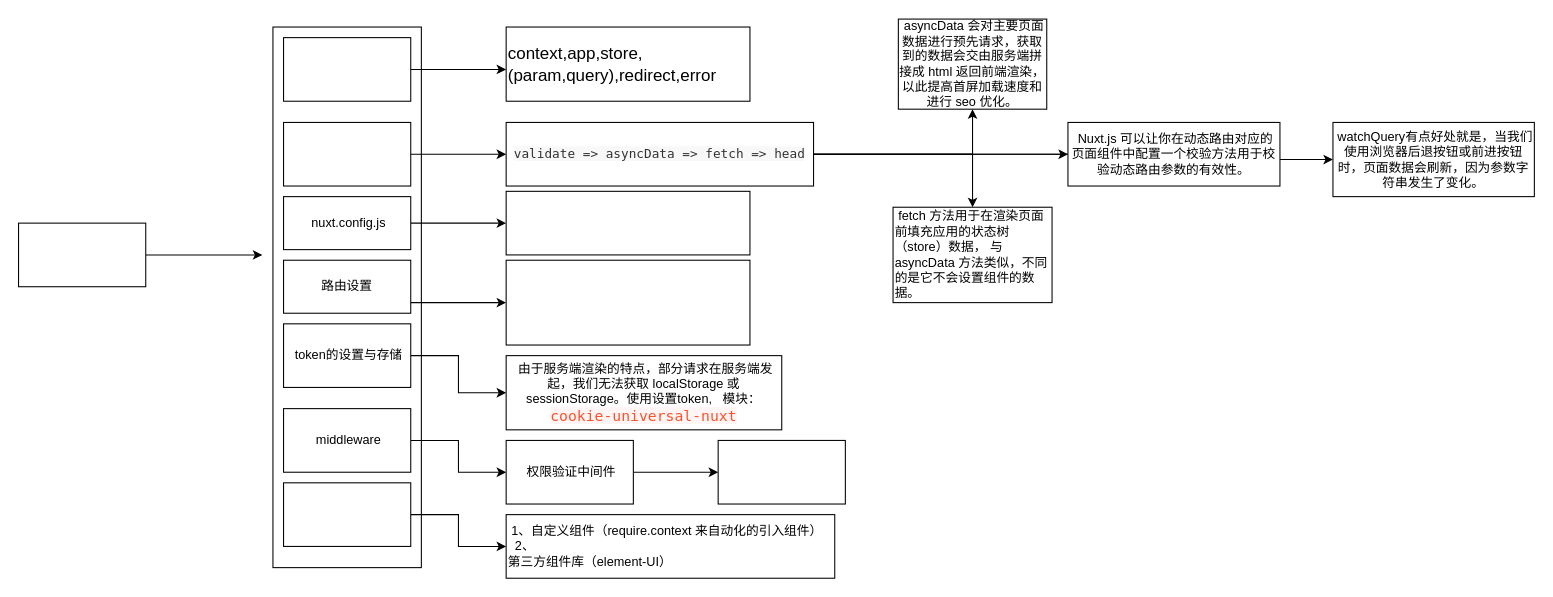
Image size: 1553x597. Some labels were removed from this diagram. The shapes that lost their labels are listed below. From the top down, each one's box as (x1, y1, x2, y2) in pixels, then its label:
(282, 37, 411, 101): 基础应用配置
(282, 121, 411, 186): 页面生命周期 （调用顺序）
(505, 190, 750, 255): head为对象是全局设置 head为函数是组件内设置 plugins（可 注入 Vue 实例和context）
(17, 222, 146, 287): Nuxt.js
(505, 259, 750, 345): 1、系统会自动生成 2、动态路由 3、嵌套路由 4、自定义路由（ extendRoutes ）
(717, 439, 845, 504): 代理，缓存，日志，监控，数据处理
(282, 482, 411, 546): 组件注册管理
